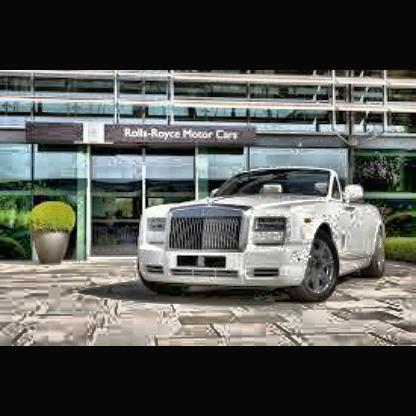Rolls-Royce Phantom Sedan 2012: (140, 166, 388, 308)
